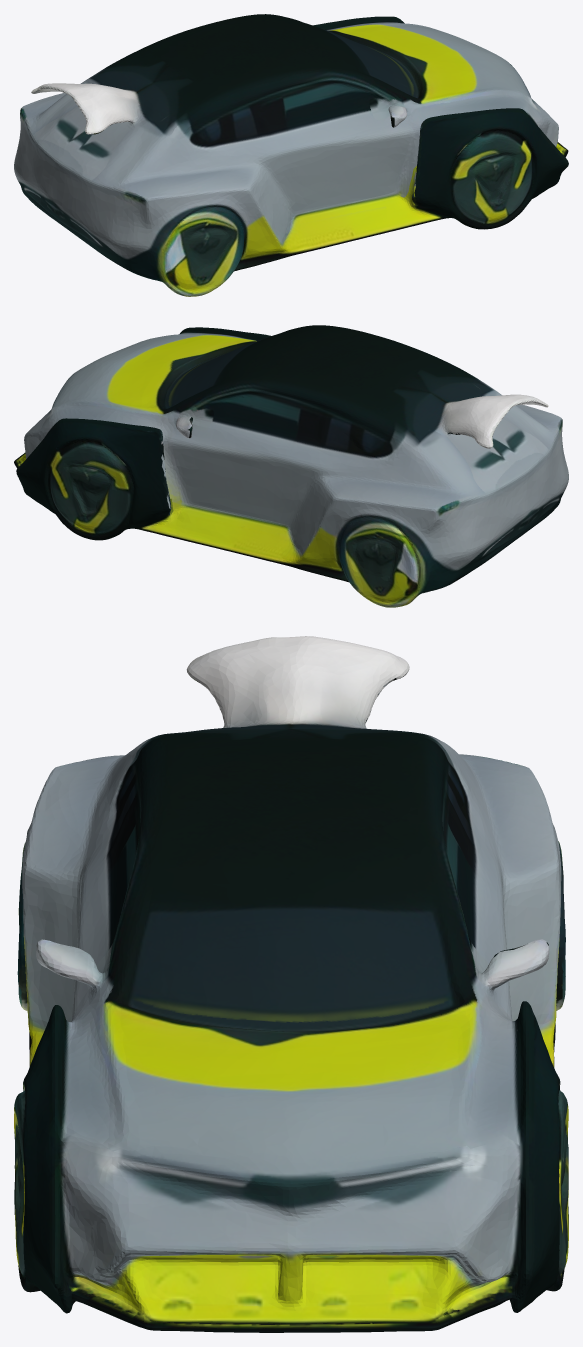
3 views of the same model, one above another, from view 1: azimuth 30°, elevation 25°; view 2: azimuth 150°, elevation 25°; view 3: azimuth 270°, elevation 25° (orthographic). The views are drawn at different scales.
Parts seen in each view (by area): view 1: tmp68dmakof.ply; view 2: tmp68dmakof.ply; view 3: tmp68dmakof.ply.
Part boxes in pixels (bbox=[...]): tmp68dmakof.ply: bbox=[14, 14, 568, 296]; tmp68dmakof.ply: bbox=[14, 325, 568, 607]; tmp68dmakof.ply: bbox=[14, 636, 568, 1332].
Bounding box in the file's own units: 1.99 × 0.6944 × 1.06.
1 material, 1 textured.
